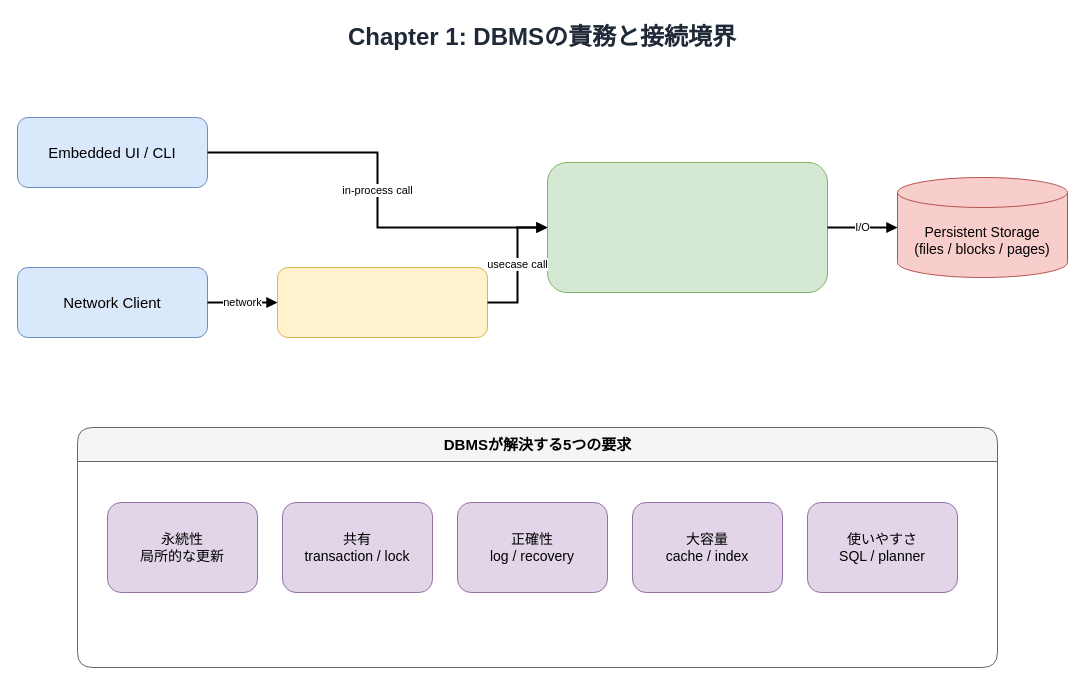
The diagram is 1085 pixels wide and 685 high, and some of its shapes have lost their labels. The shapes that lost their labels are listed below. From the top down, each one's centre as x and y in pixels, then its label:
the point at 687,227: Database Engine SQL/APIを受け取り、dataを安全かつ効率的に管理
the point at 382,302: Transport Adapter (connection / protocol)
